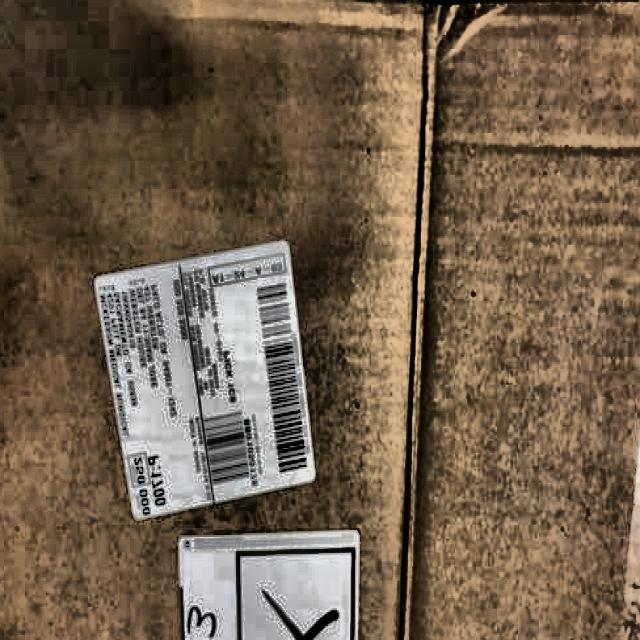cardboard: (399, 0, 640, 640), (95, 238, 318, 522)
